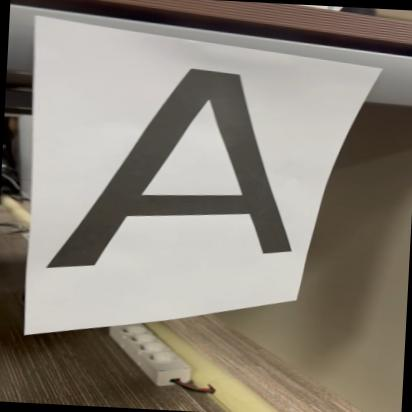seat: (32, 52, 315, 286)
